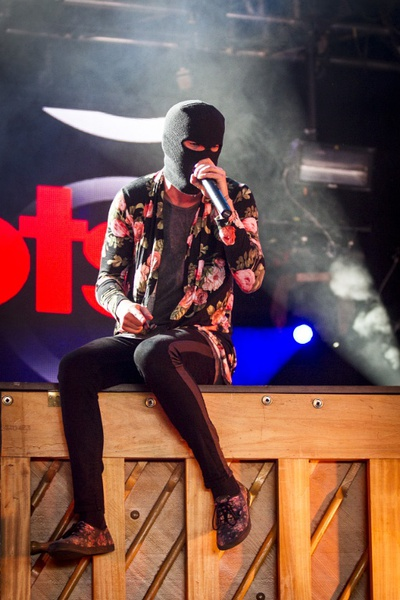face_mask: (169, 122, 224, 186)
